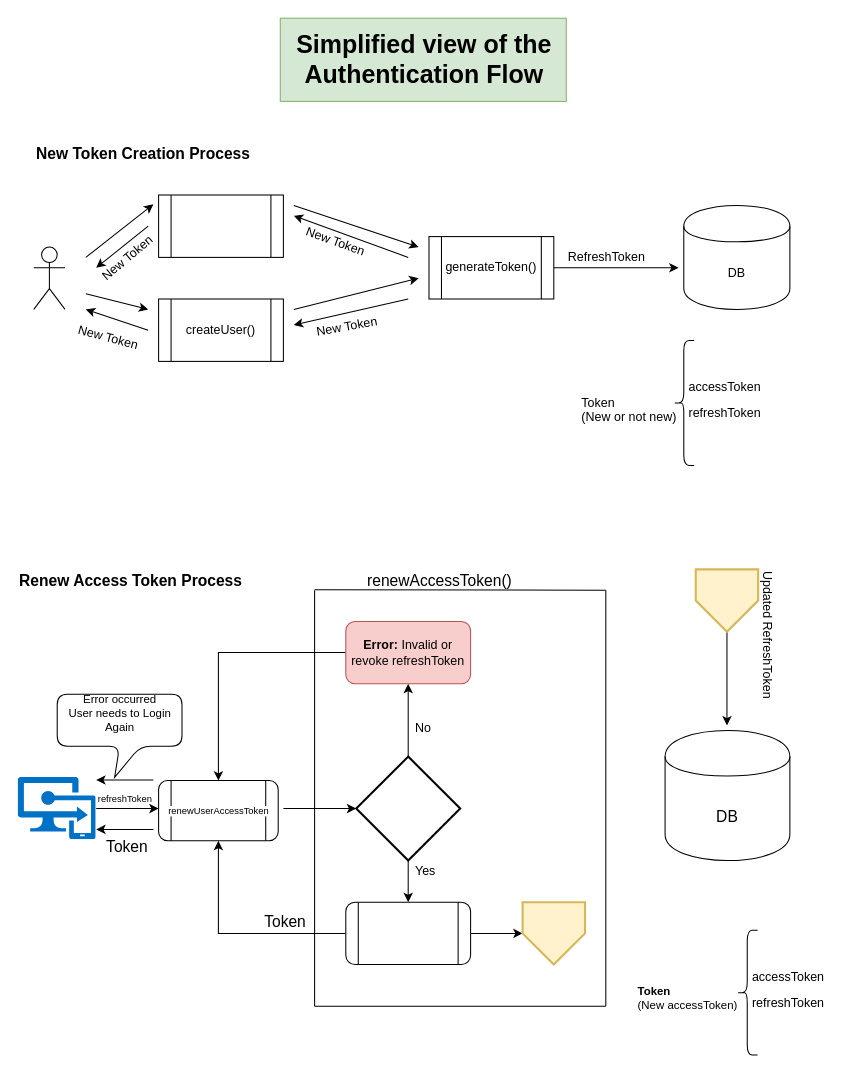
Some shapes in this 861 by 1073 pixel diagram are drawn without their labels. Here are the shapes that lost their labels. From the top down, the centre of each, then its label:
At (x=220, y=225): "login()".
At (x=49, y=277): "User".
At (x=57, y=808): "Application".
At (x=408, y=808): "Check if refreshToken is Valid".
At (x=408, y=933): "Generate new accessToken".
